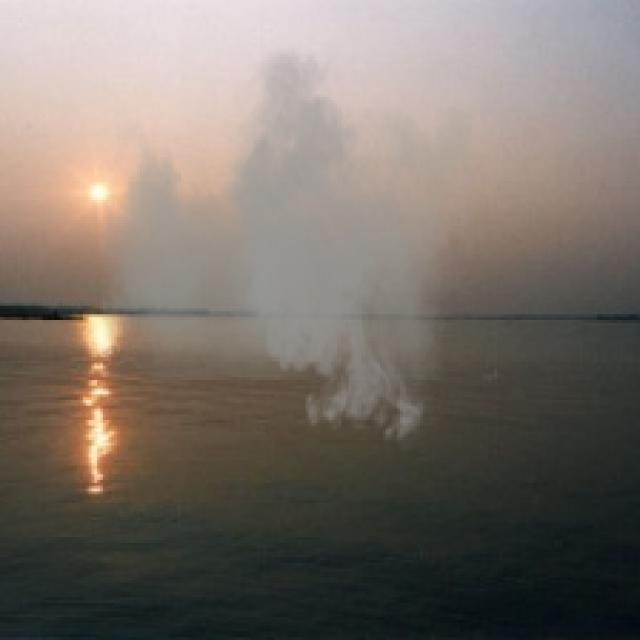Smoke: (100, 32, 474, 454)
